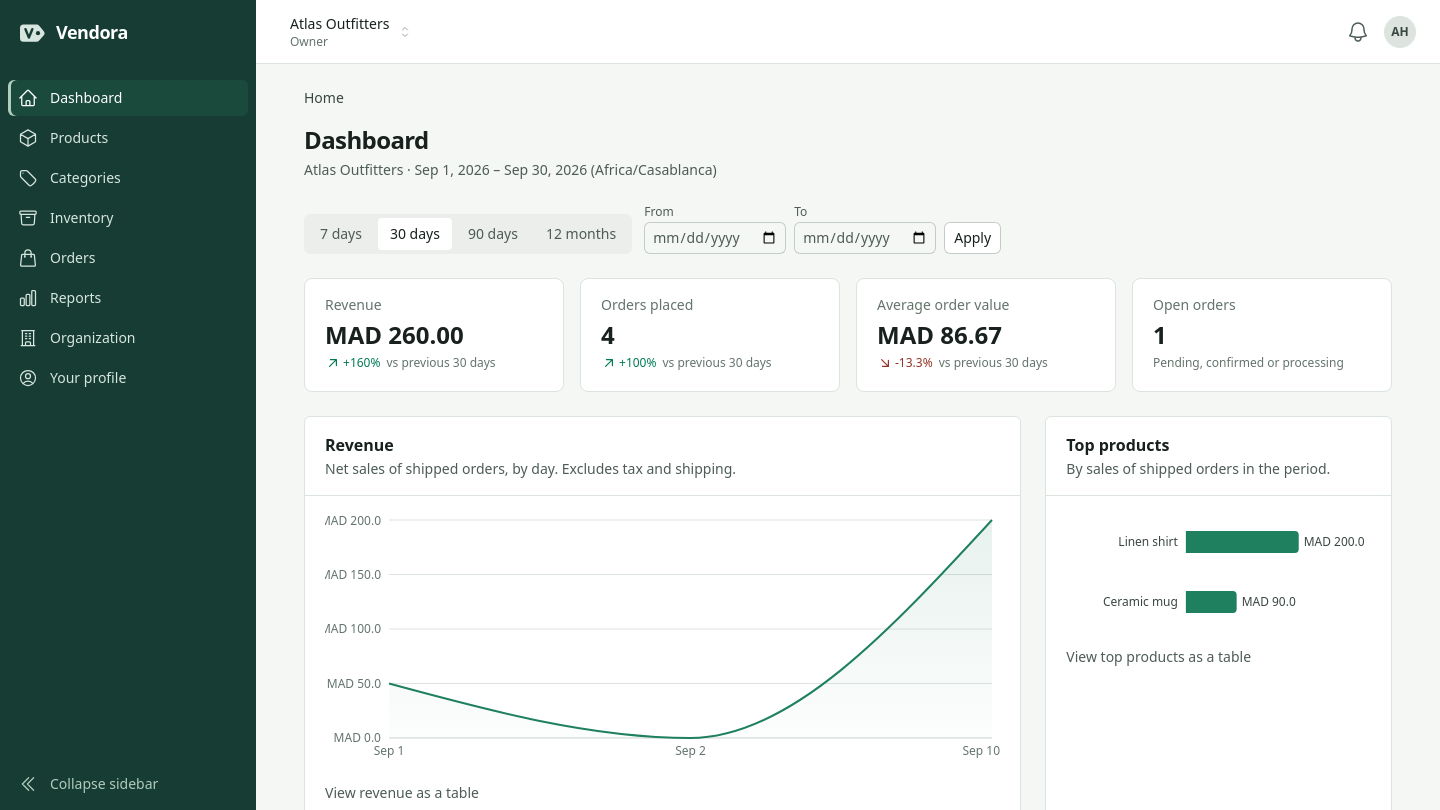
Test: dashboard › the revenue chart has a table view with every period
Expected: the picture named "Revenue by day, 3 days" is shown, [325,512,1000,768]
Click the button "View revenue as a table".
click(402, 793)  # box [325,783,479,803]
(page scrolled)
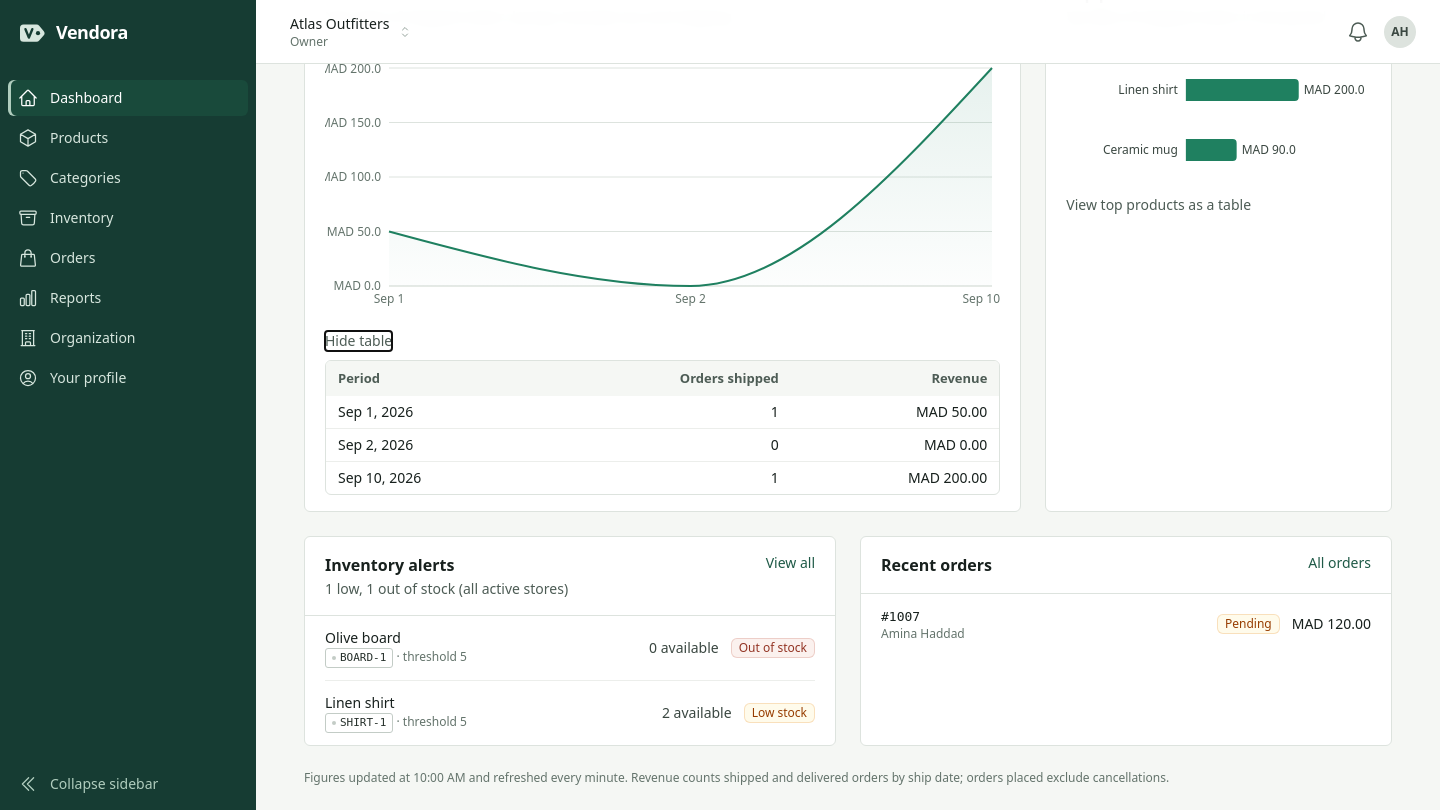
Expected: the number of rows is 4, [326,361,999,396]; [326,396,999,428]; [326,428,999,461]; [326,461,999,494]
Expected: the row "Sep 10, 2026 1 MAD 200.00" is shown, [326,461,999,494]
